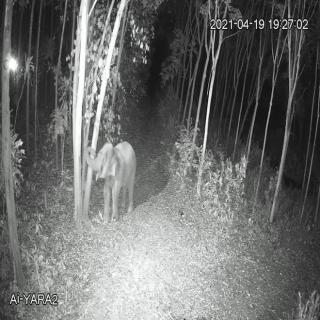Elephant: (84, 136, 135, 224)
